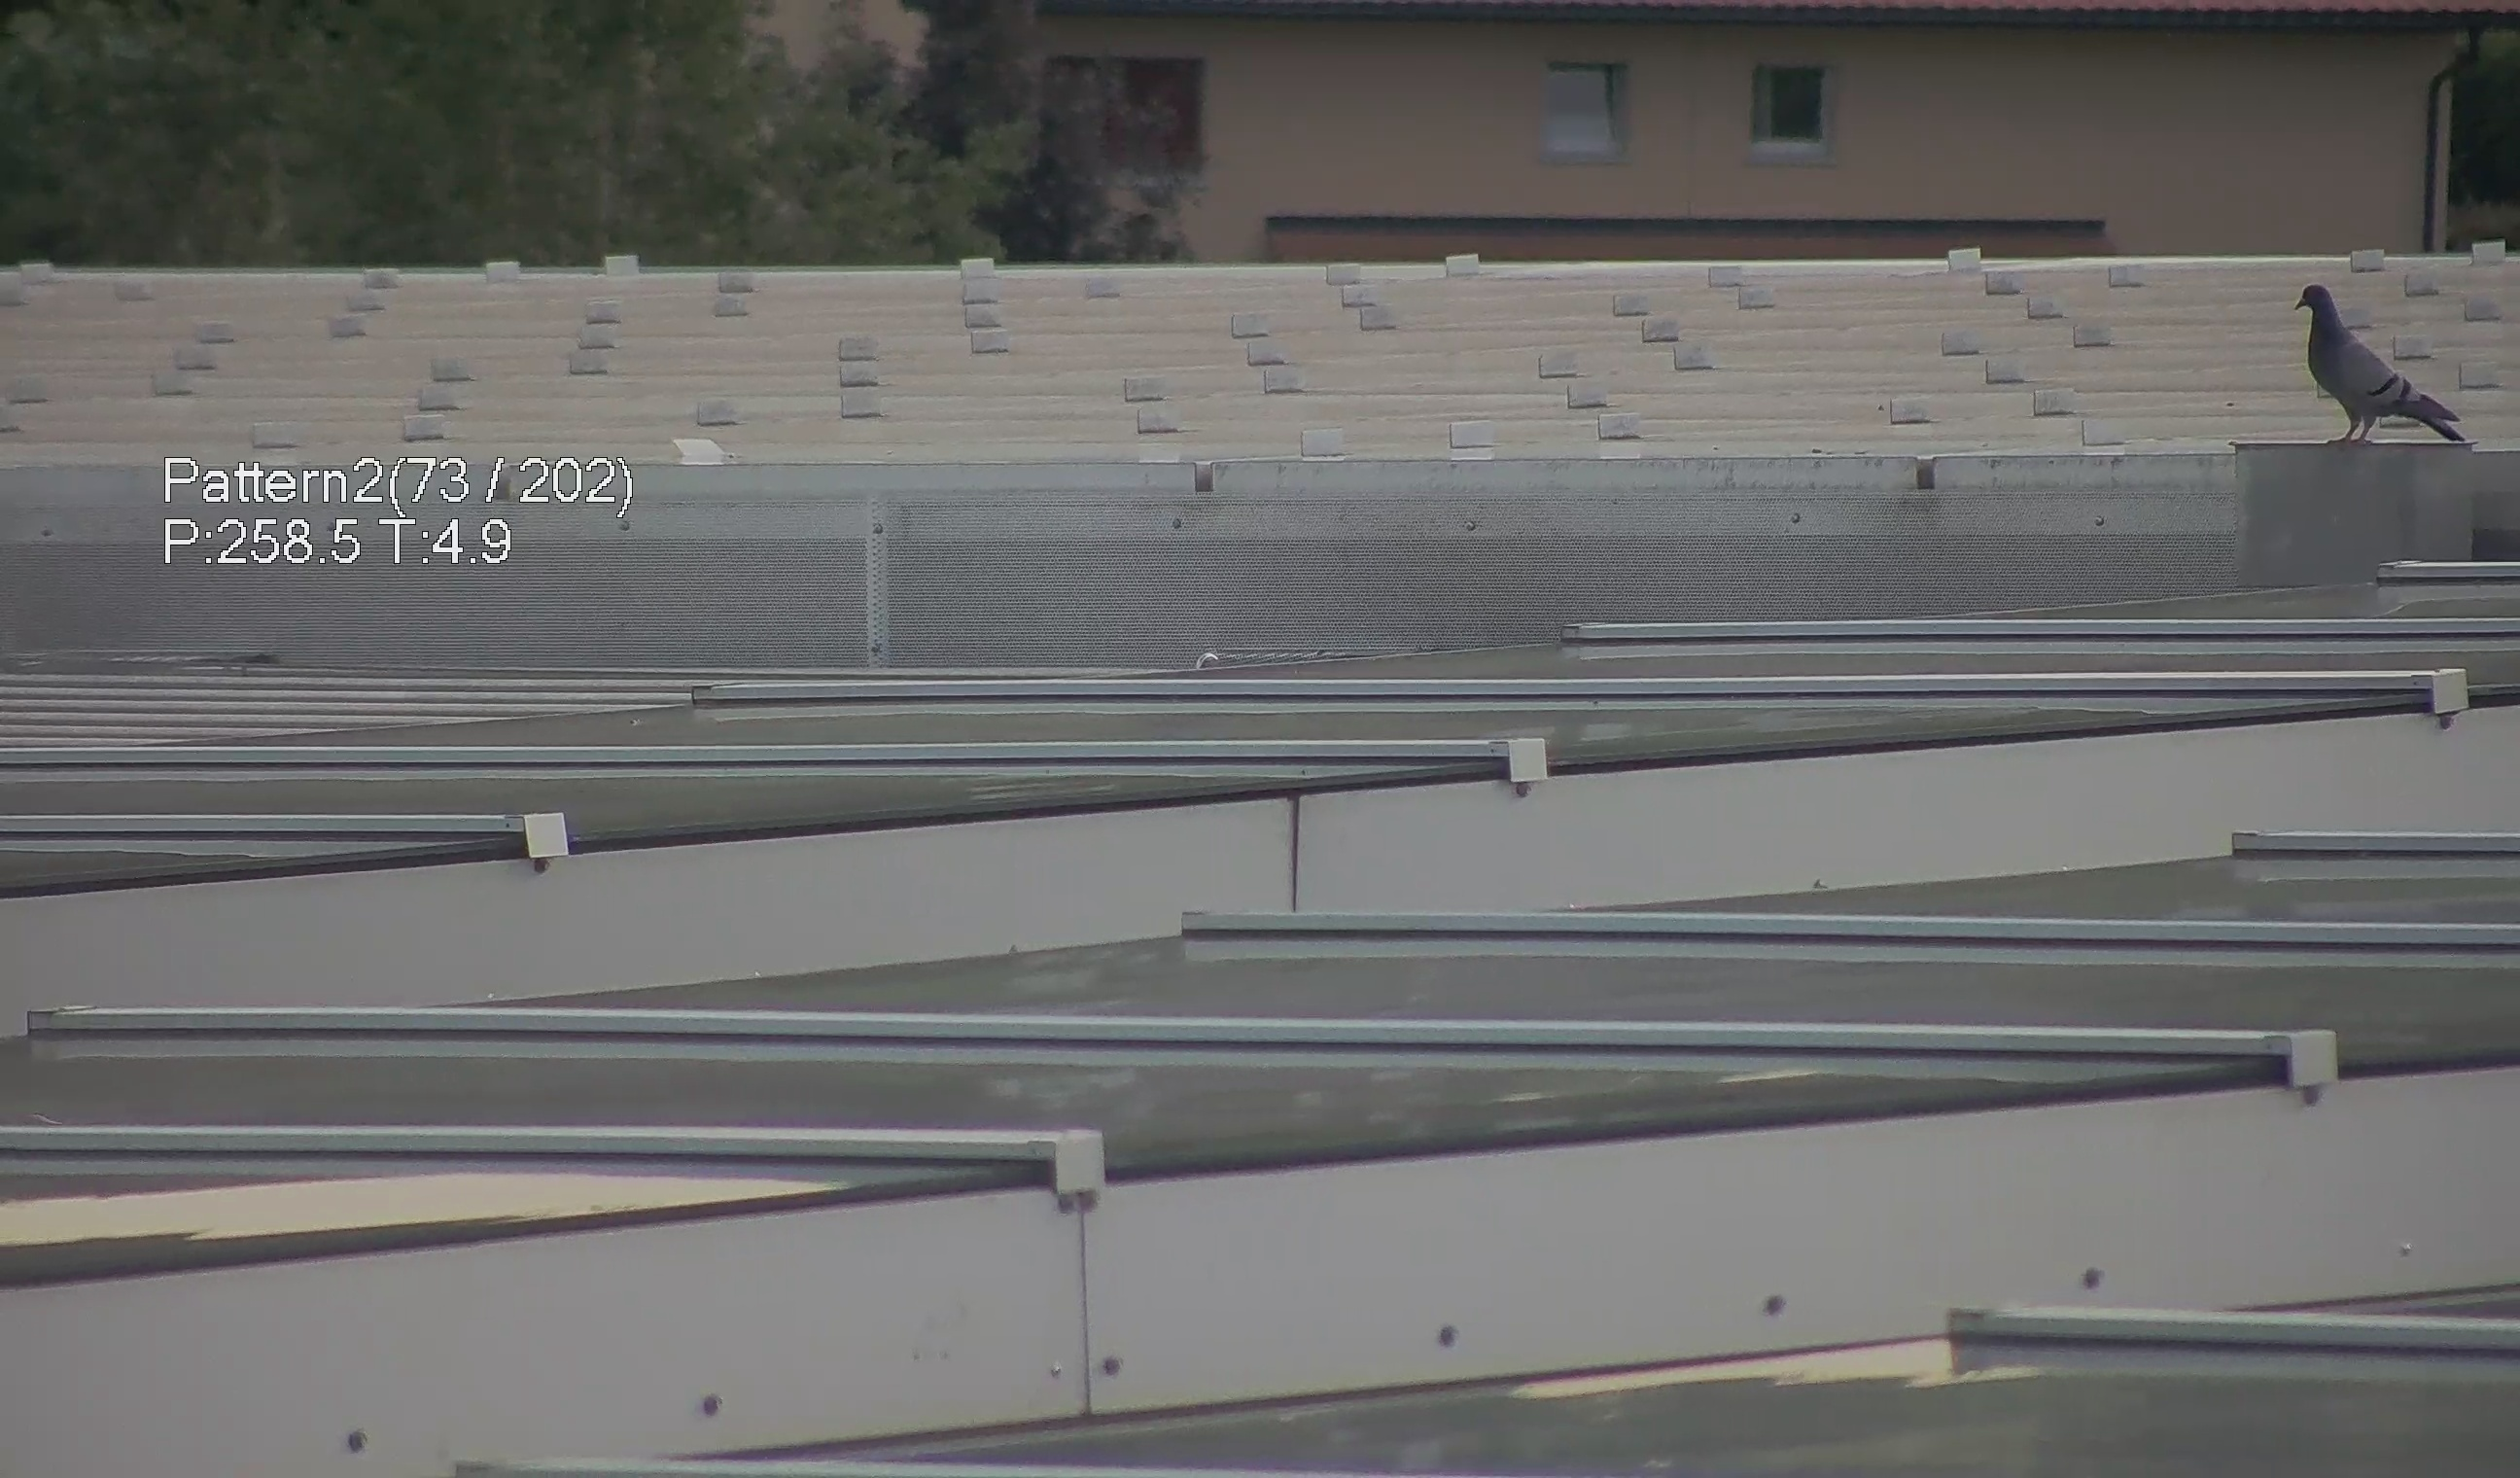Pigeon: (2284, 269, 2478, 456)
